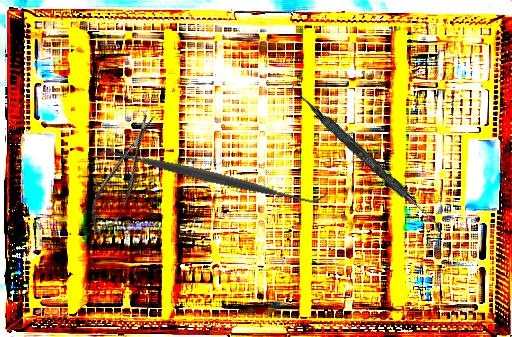Micro Scissor: (81, 110, 167, 238)
Spatula Surgical: (285, 85, 451, 235), (93, 135, 329, 218)
